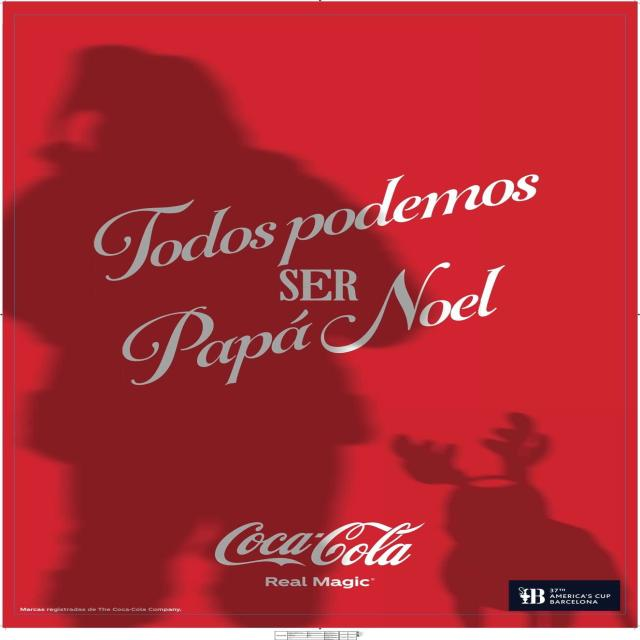coca cola: (206, 514, 431, 576)
